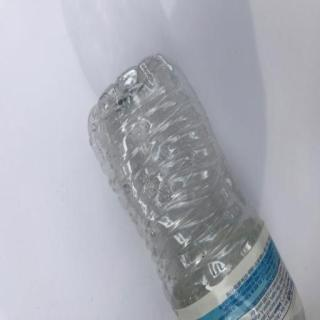Plastic-bottle: (84, 50, 310, 320)
